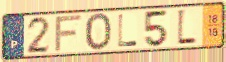2: (26, 16, 52, 55)
5: (143, 8, 172, 48)
F: (53, 13, 85, 54)
L: (176, 8, 198, 47), (117, 13, 140, 48)
O: (84, 12, 114, 53)
